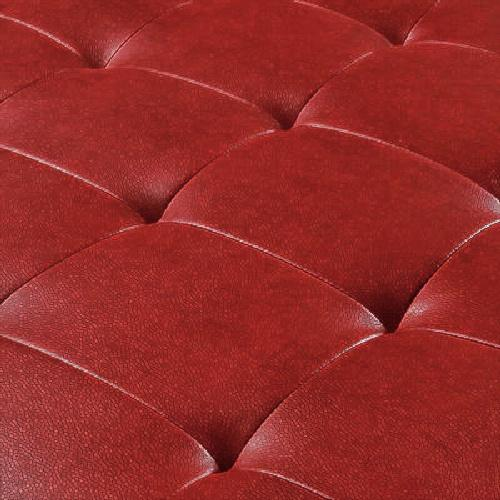sofa: (32, 21, 473, 484)
